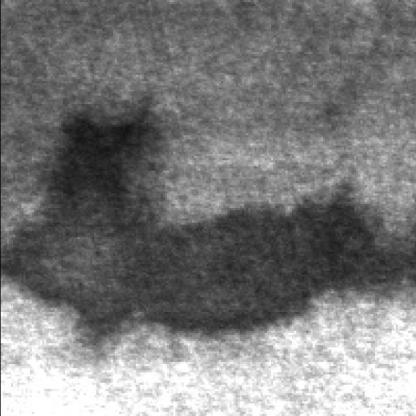patches: (19, 177, 416, 339), (45, 94, 168, 216)
